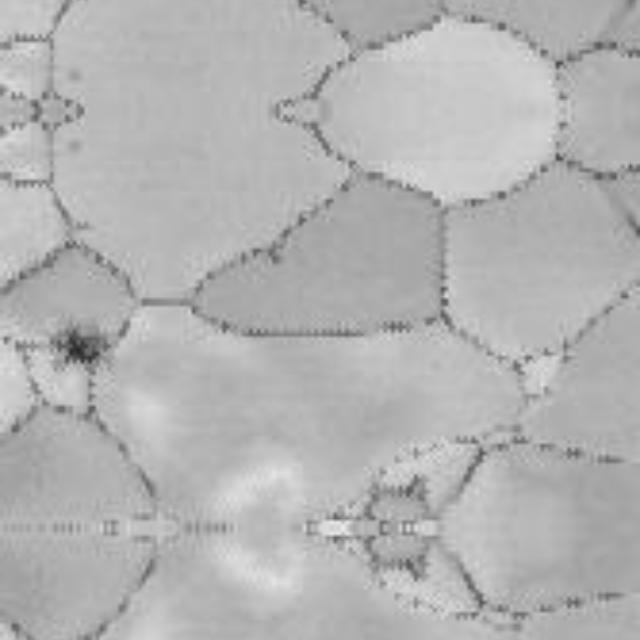good_void: (50, 321, 114, 374)
